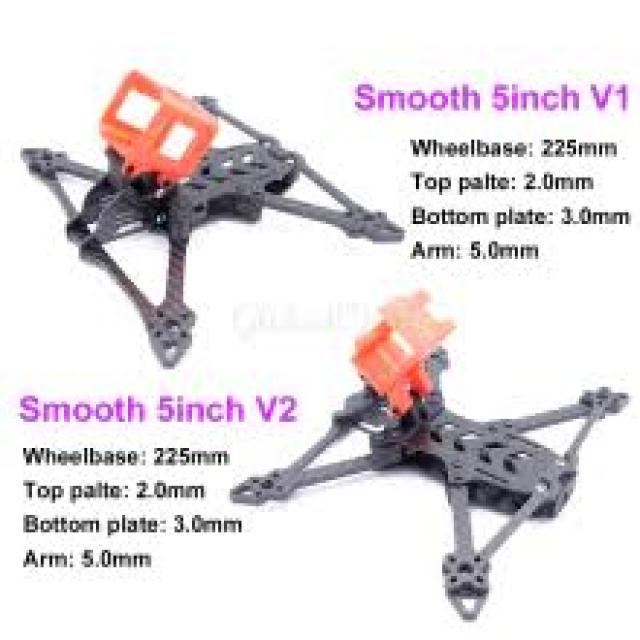drone: (228, 278, 624, 626), (18, 74, 430, 378)
